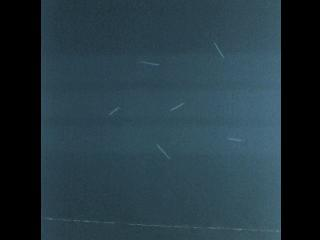crack: (41, 216, 280, 236)
scratch: (153, 138, 172, 164), (222, 130, 246, 149), (165, 98, 187, 116), (102, 102, 125, 119), (136, 56, 162, 70), (212, 40, 228, 60)
